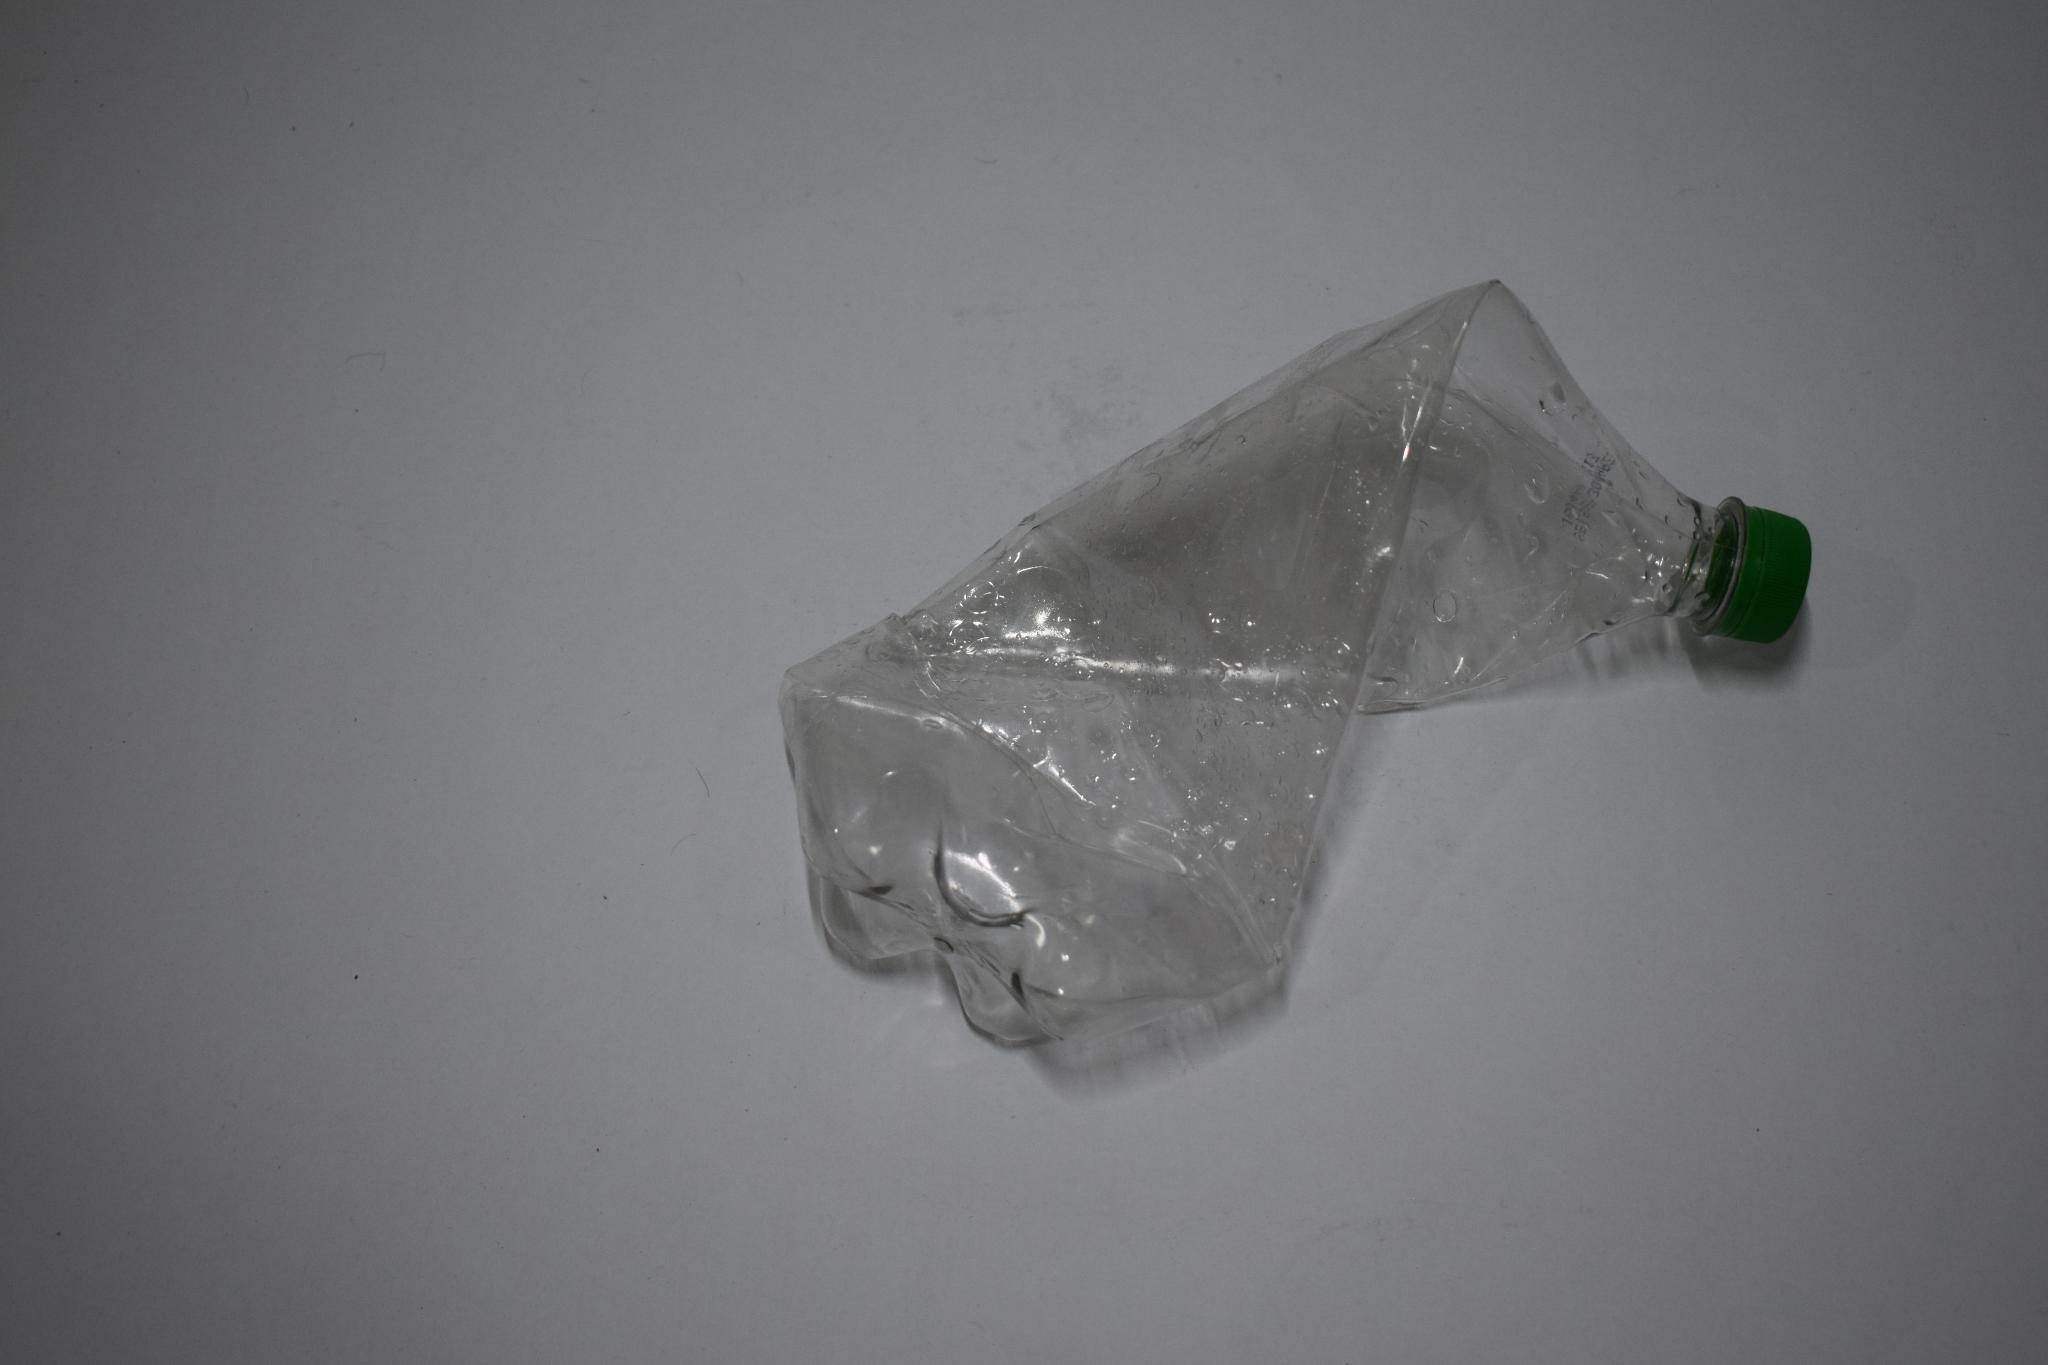bottle: (769, 253, 1826, 1089)
